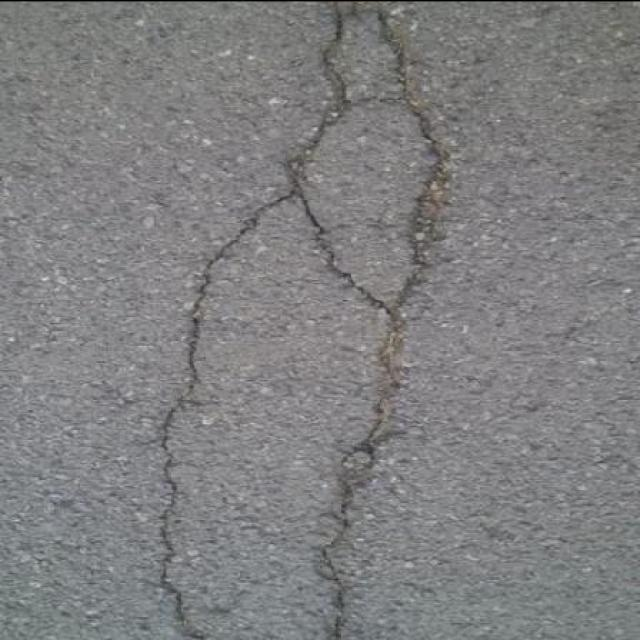Crack: (158, 0, 448, 640), (378, 1, 403, 81)
